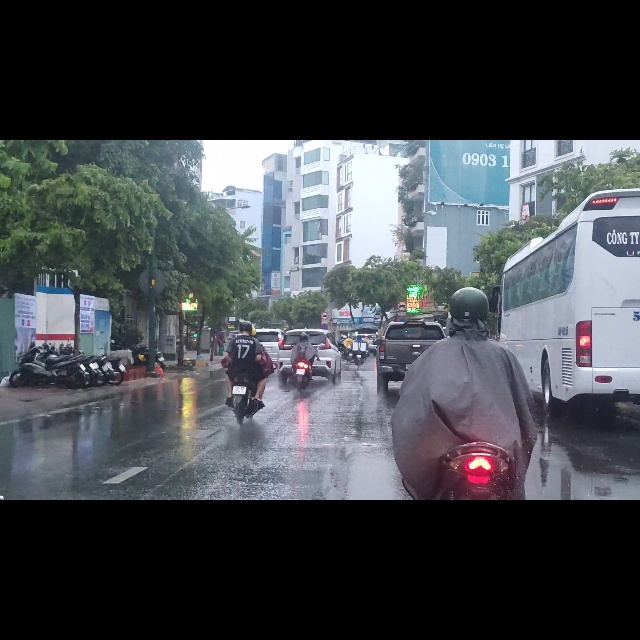bien_cam: (397, 286, 407, 305), (321, 306, 329, 320)
